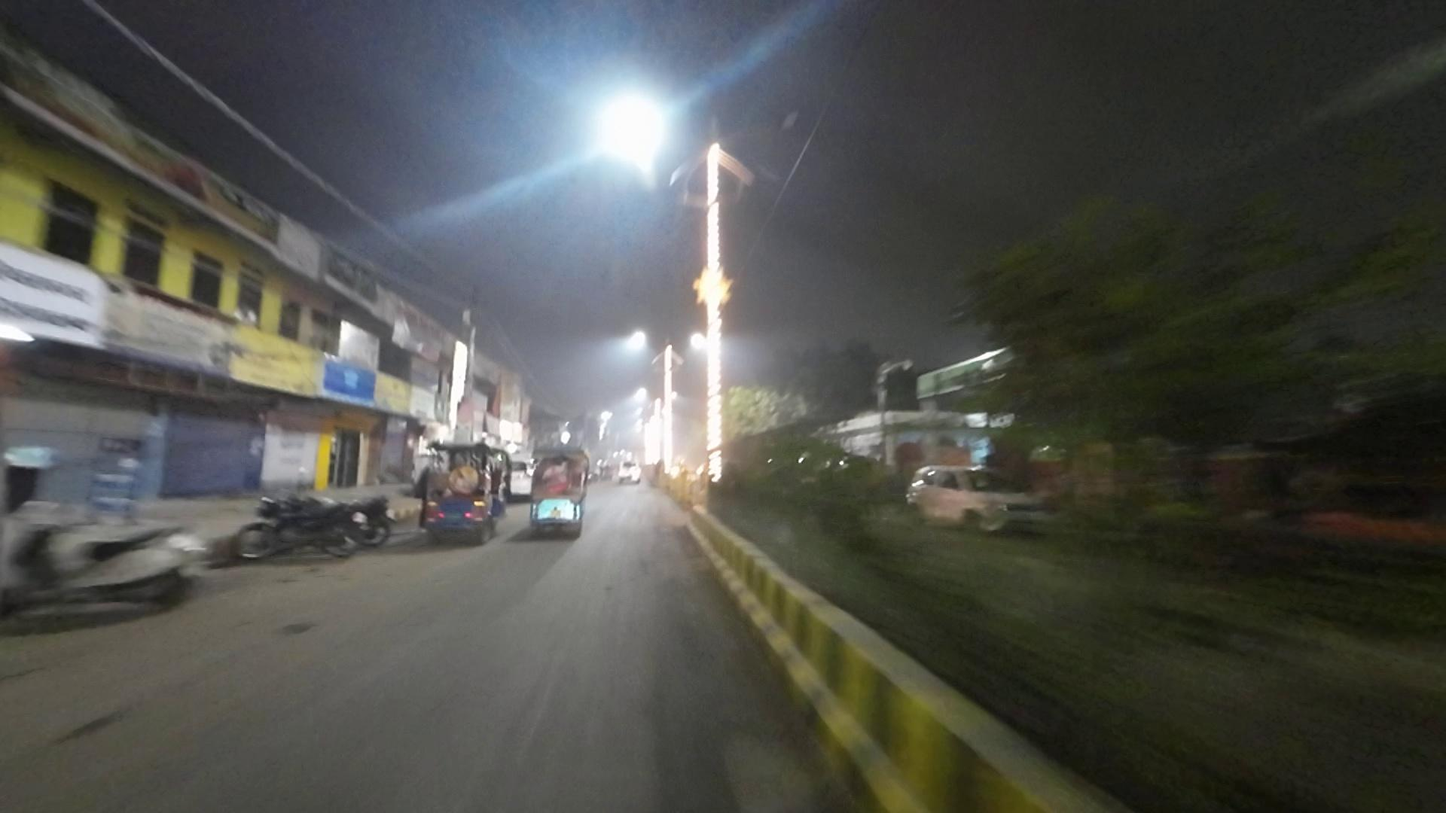streetlight: (733, 107, 800, 133)
